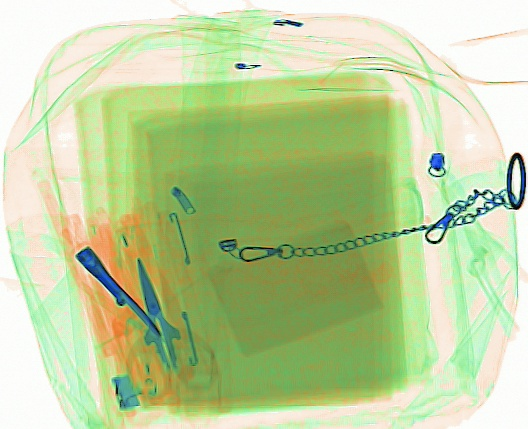scissors: (124, 257, 219, 407)
